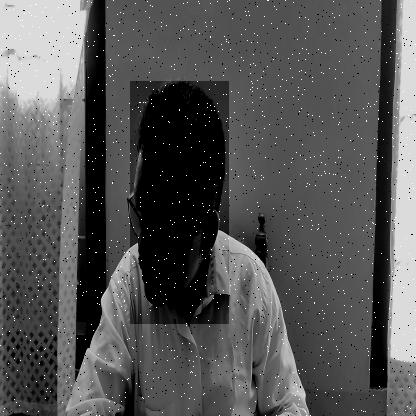Distracted: (130, 81, 229, 324)
